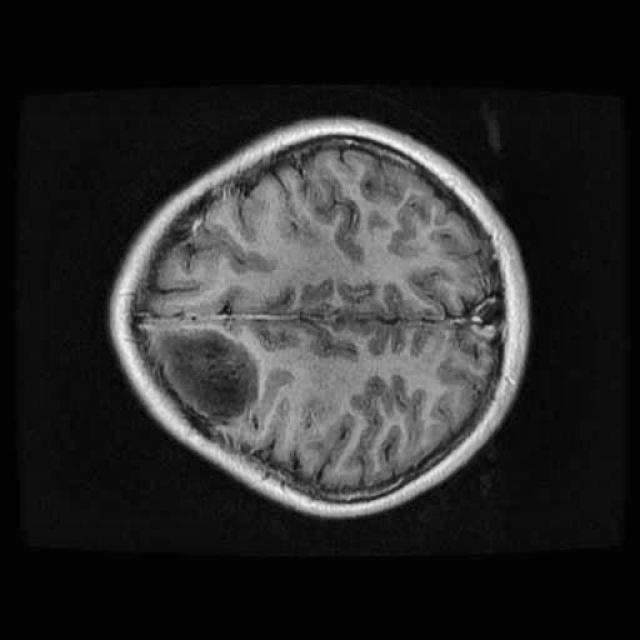Non-Tumor: (134, 308, 278, 444)
